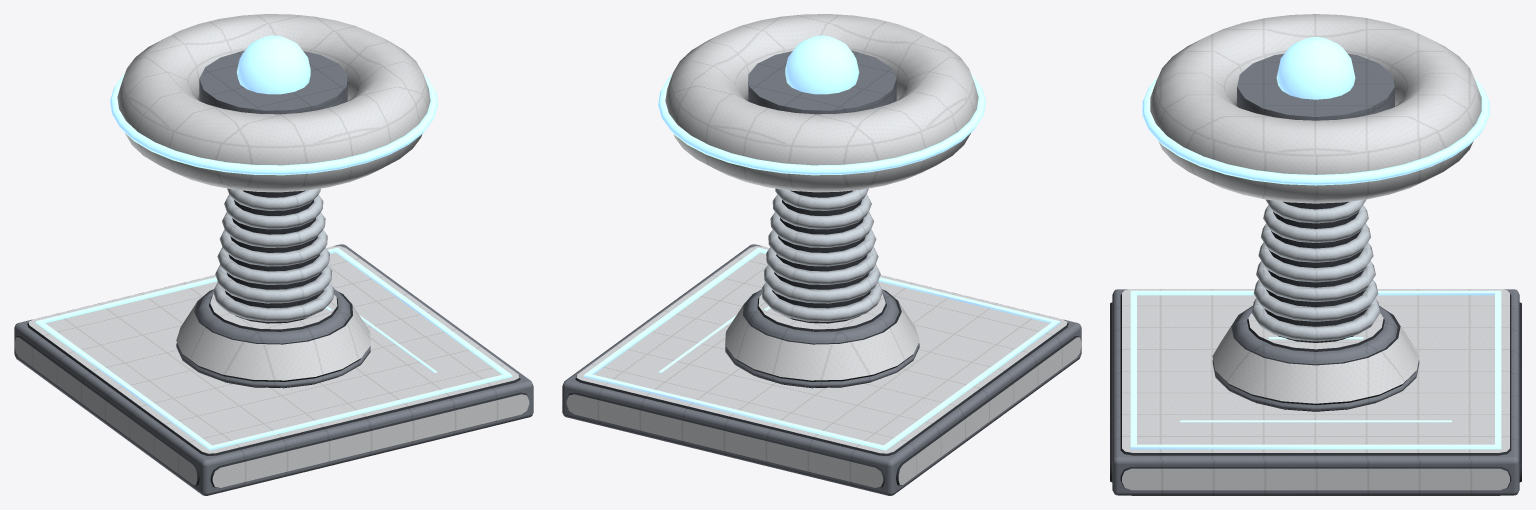
Rendered from R4X_AreaEMP.glb.
3 renders of one model, left to right at view 1: azimuth 30°, elevation 25°; view 2: azimuth 150°, elevation 25°; view 3: azimuth 270°, elevation 25°, orthographic. The views are drawn at different scales.
Parts seen in each view (by area): view 1: R4X_AreaEMP_Body; view 2: R4X_AreaEMP_Body; view 3: R4X_AreaEMP_Body.
Boxes of the visible parts, x1,y1,x2,y2 form: R4X_AreaEMP_Body: (14,14,533,495); R4X_AreaEMP_Body: (562,14,1081,495); R4X_AreaEMP_Body: (1110,14,1521,495).
Bounding box in the file's own units: 0.52 × 0.52 × 0.52.
Materials: 5 (4 with a texture image).
